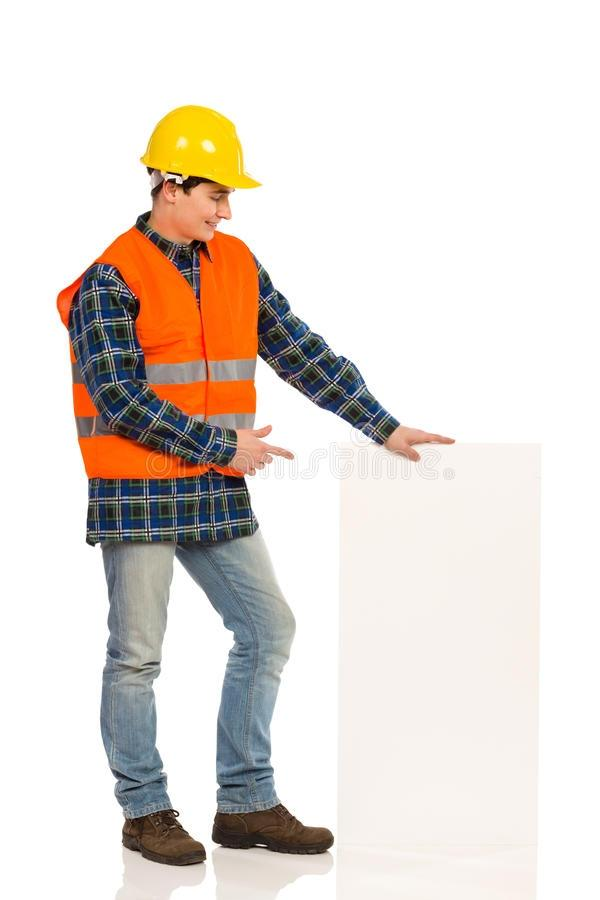helmet: (139, 105, 262, 199)
wear: (63, 240, 264, 490)
